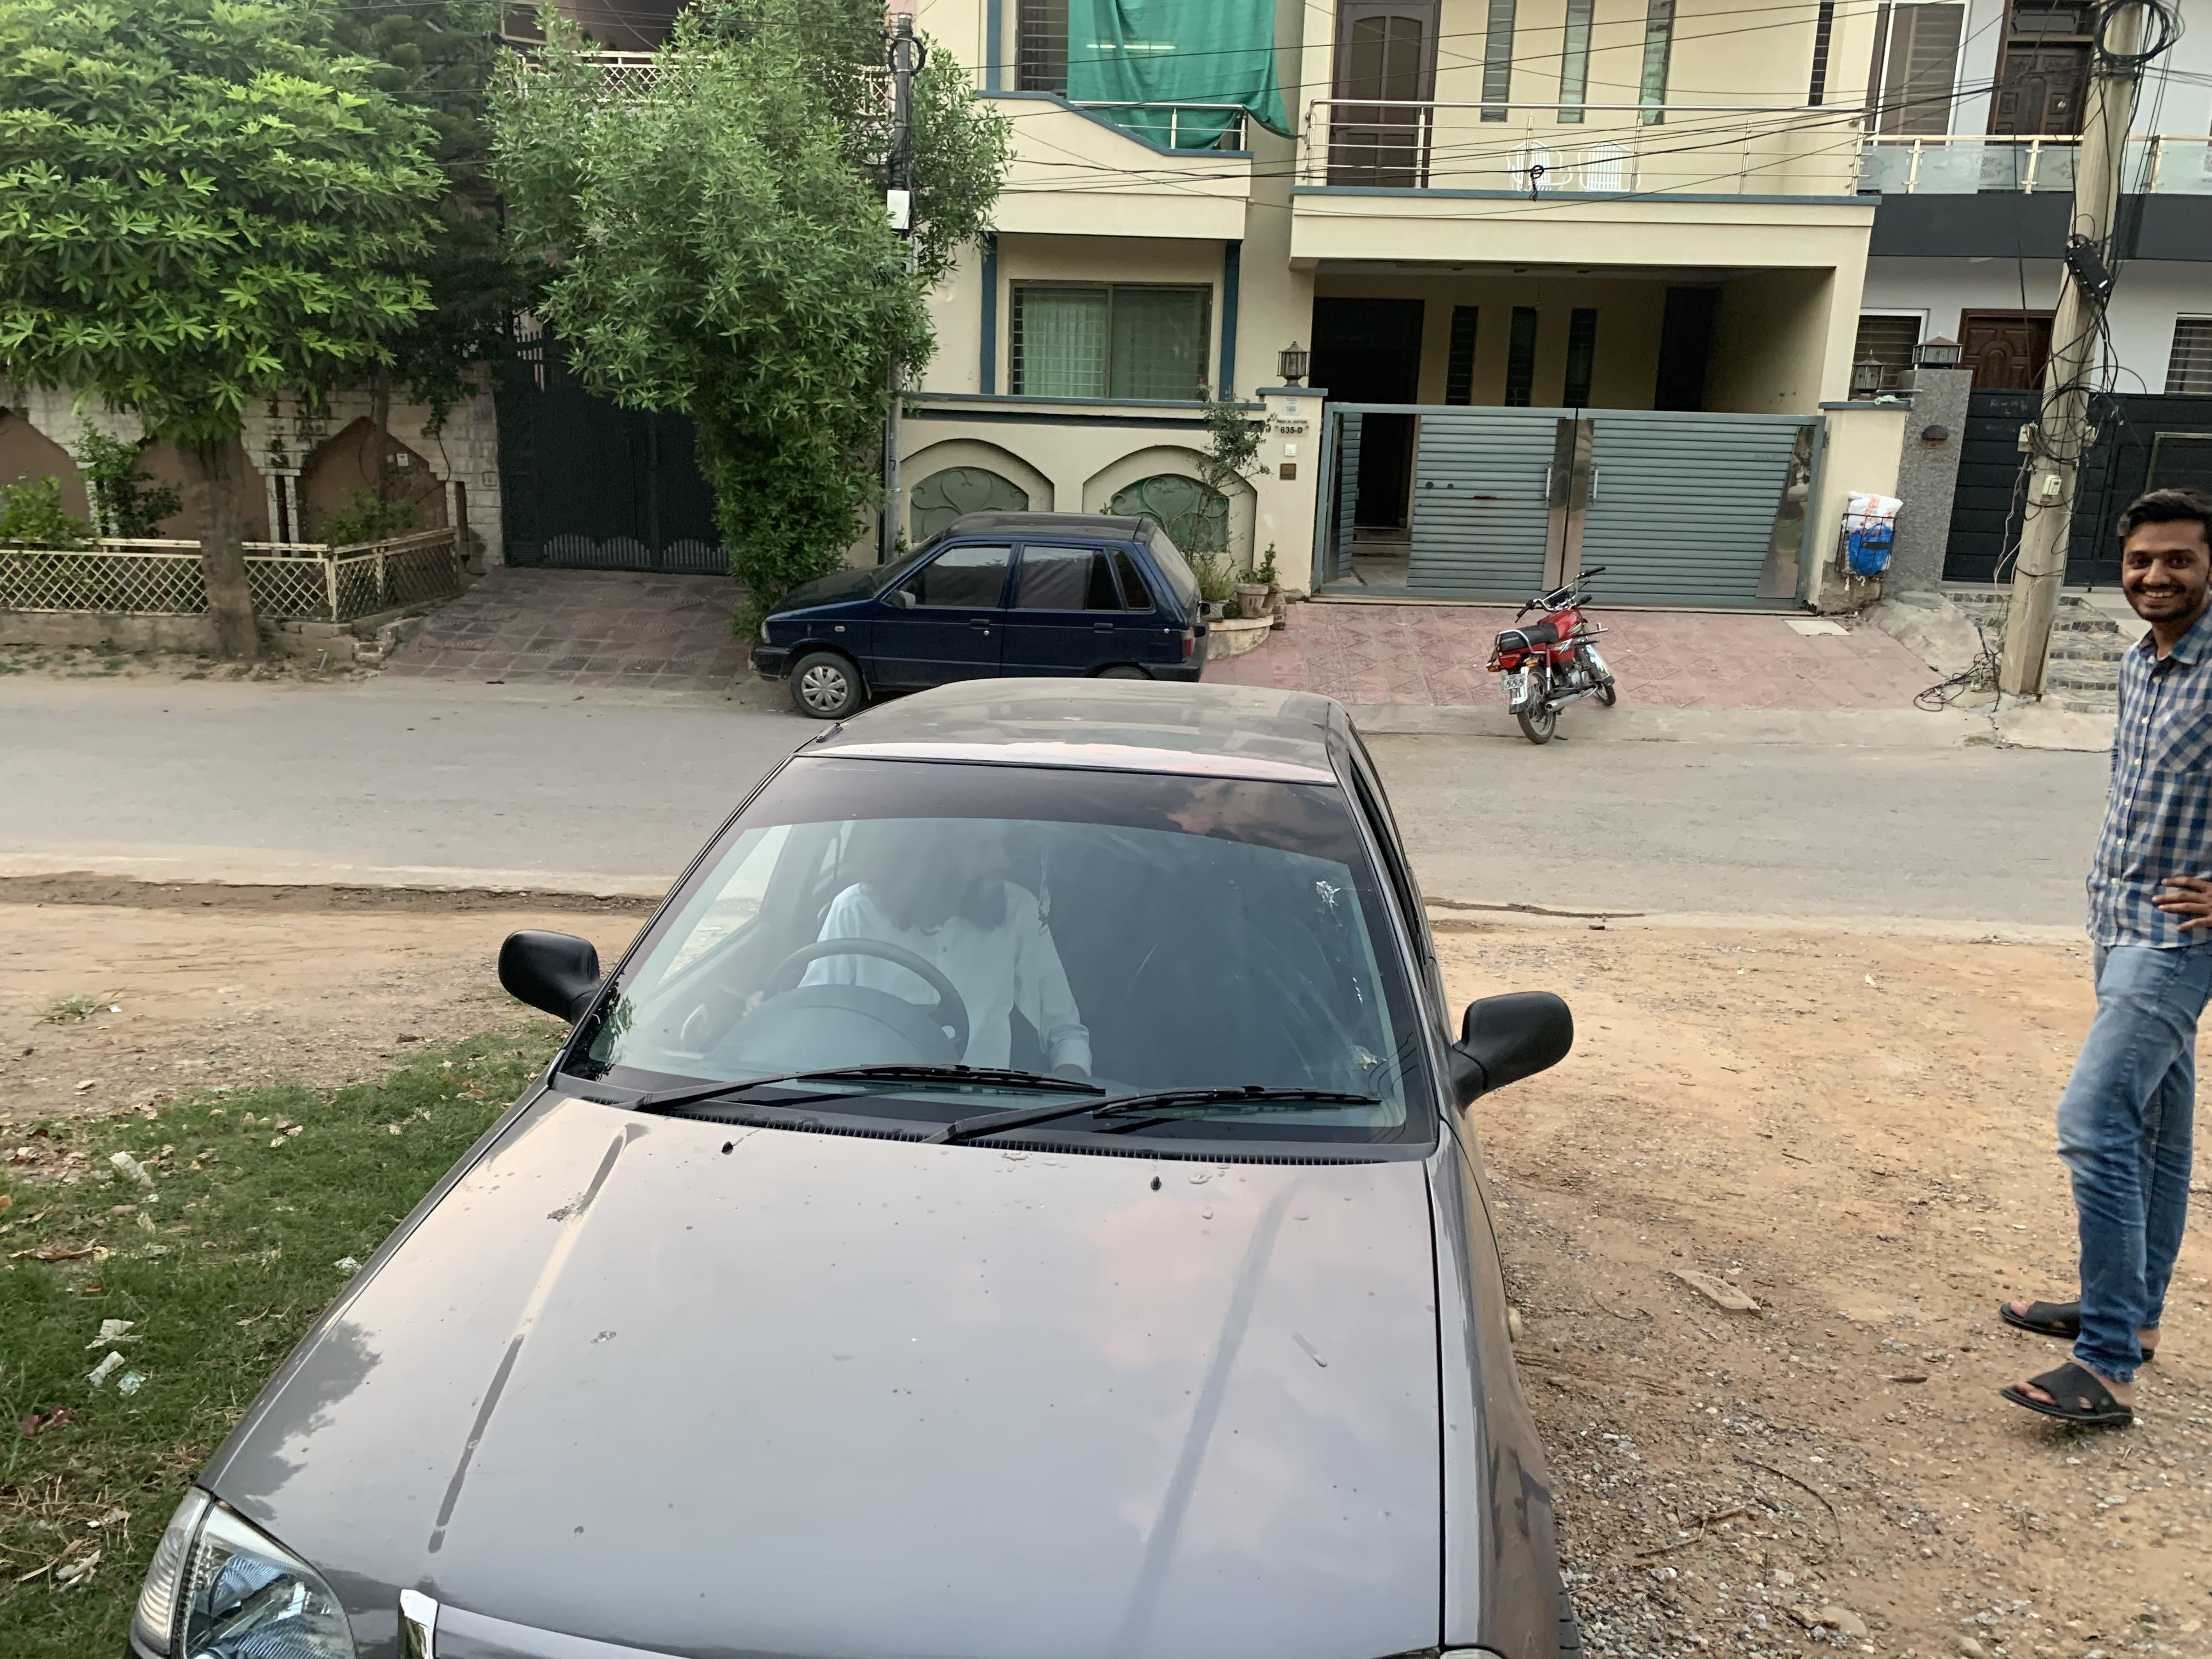windshield: (566, 746, 1449, 1152)
